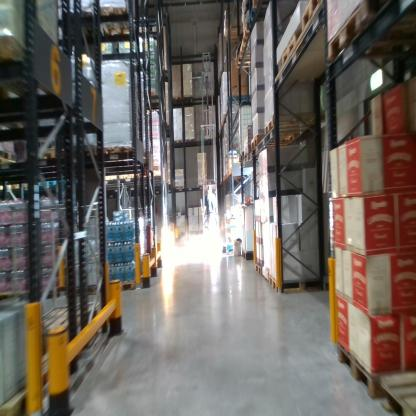pallet: (22, 294, 108, 355), (337, 337, 416, 401), (323, 3, 413, 55), (371, 369, 415, 415), (97, 4, 138, 47), (268, 272, 328, 296), (263, 116, 319, 135), (301, 2, 337, 31), (279, 33, 304, 72), (101, 142, 138, 166), (248, 136, 315, 149), (222, 19, 259, 42), (247, 7, 277, 33), (231, 43, 258, 71), (41, 146, 70, 167), (240, 25, 257, 49), (242, 148, 265, 162), (240, 245, 255, 266), (255, 261, 264, 279), (169, 184, 185, 190), (174, 138, 182, 148), (173, 95, 181, 102)
